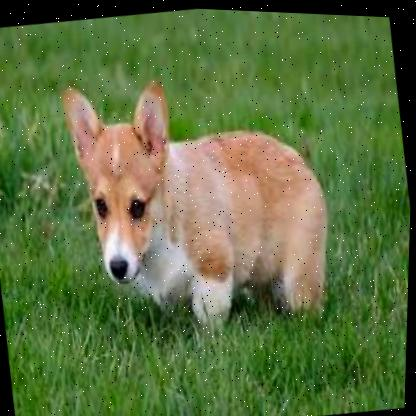dog: (51, 50, 347, 356)
